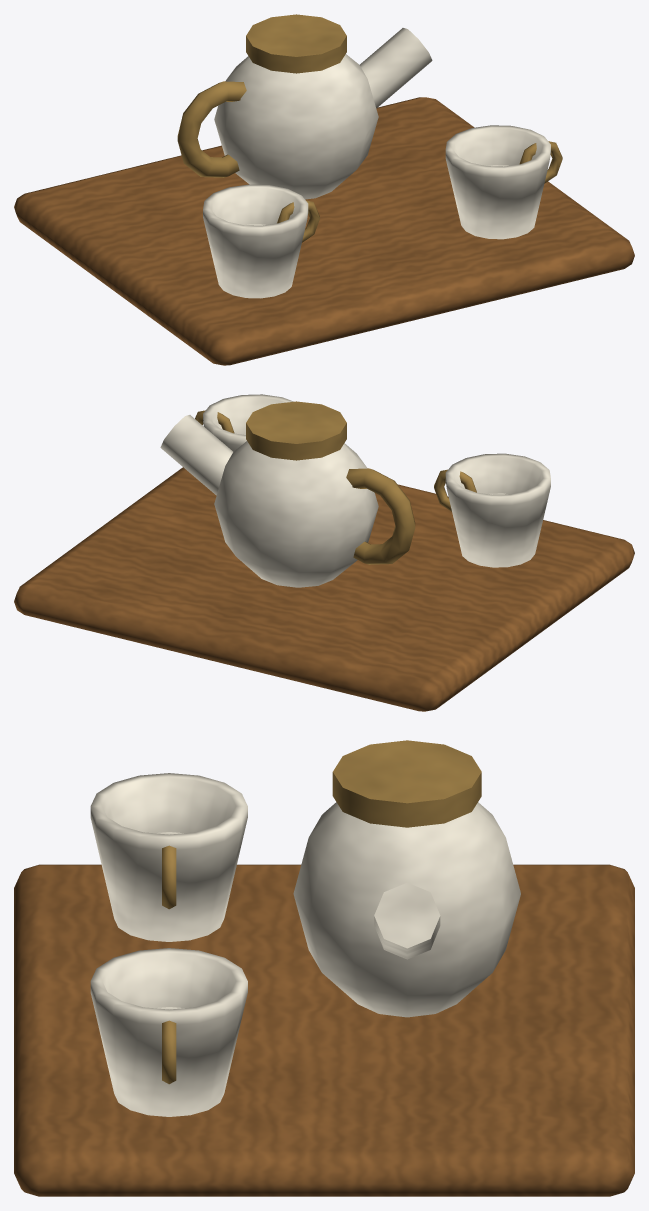
The model's file is Furn_DecorTeaSet.fbx.
3 renders of one model, top to bottom at view 1: azimuth 30°, elevation 25°; view 2: azimuth 150°, elevation 25°; view 3: azimuth 270°, elevation 25°, orthographic. The views are drawn at different scales.
Visible parts, largest first — view 1: Furn_DecorTeaSet_Mesh; view 2: Furn_DecorTeaSet_Mesh; view 3: Furn_DecorTeaSet_Mesh.
Boxes of the visible parts, bbox=[...] form: Furn_DecorTeaSet_Mesh: bbox=[14, 14, 634, 365]; Furn_DecorTeaSet_Mesh: bbox=[14, 394, 634, 711]; Furn_DecorTeaSet_Mesh: bbox=[14, 740, 634, 1196].
Bounding box in the file's own units: 0.35 × 0.15 × 0.3.
Materials: 3 (3 with a texture image).
